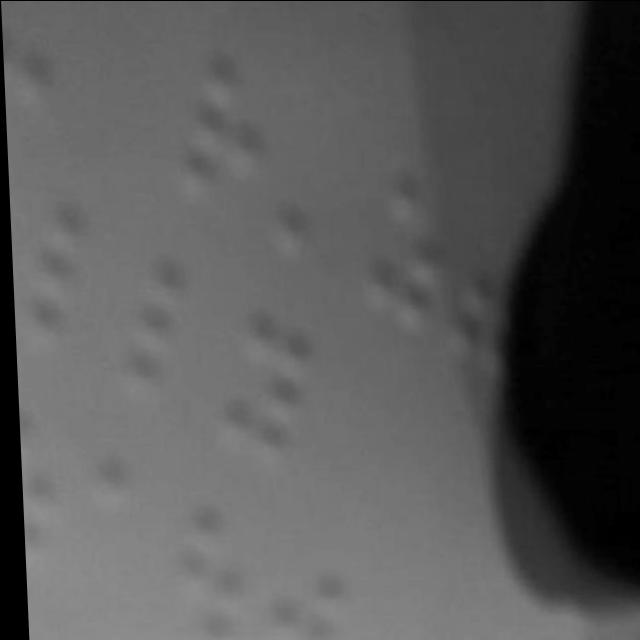braiile: (219, 320, 324, 466), (353, 182, 446, 344), (116, 258, 223, 398), (174, 66, 275, 211), (17, 212, 115, 354)
